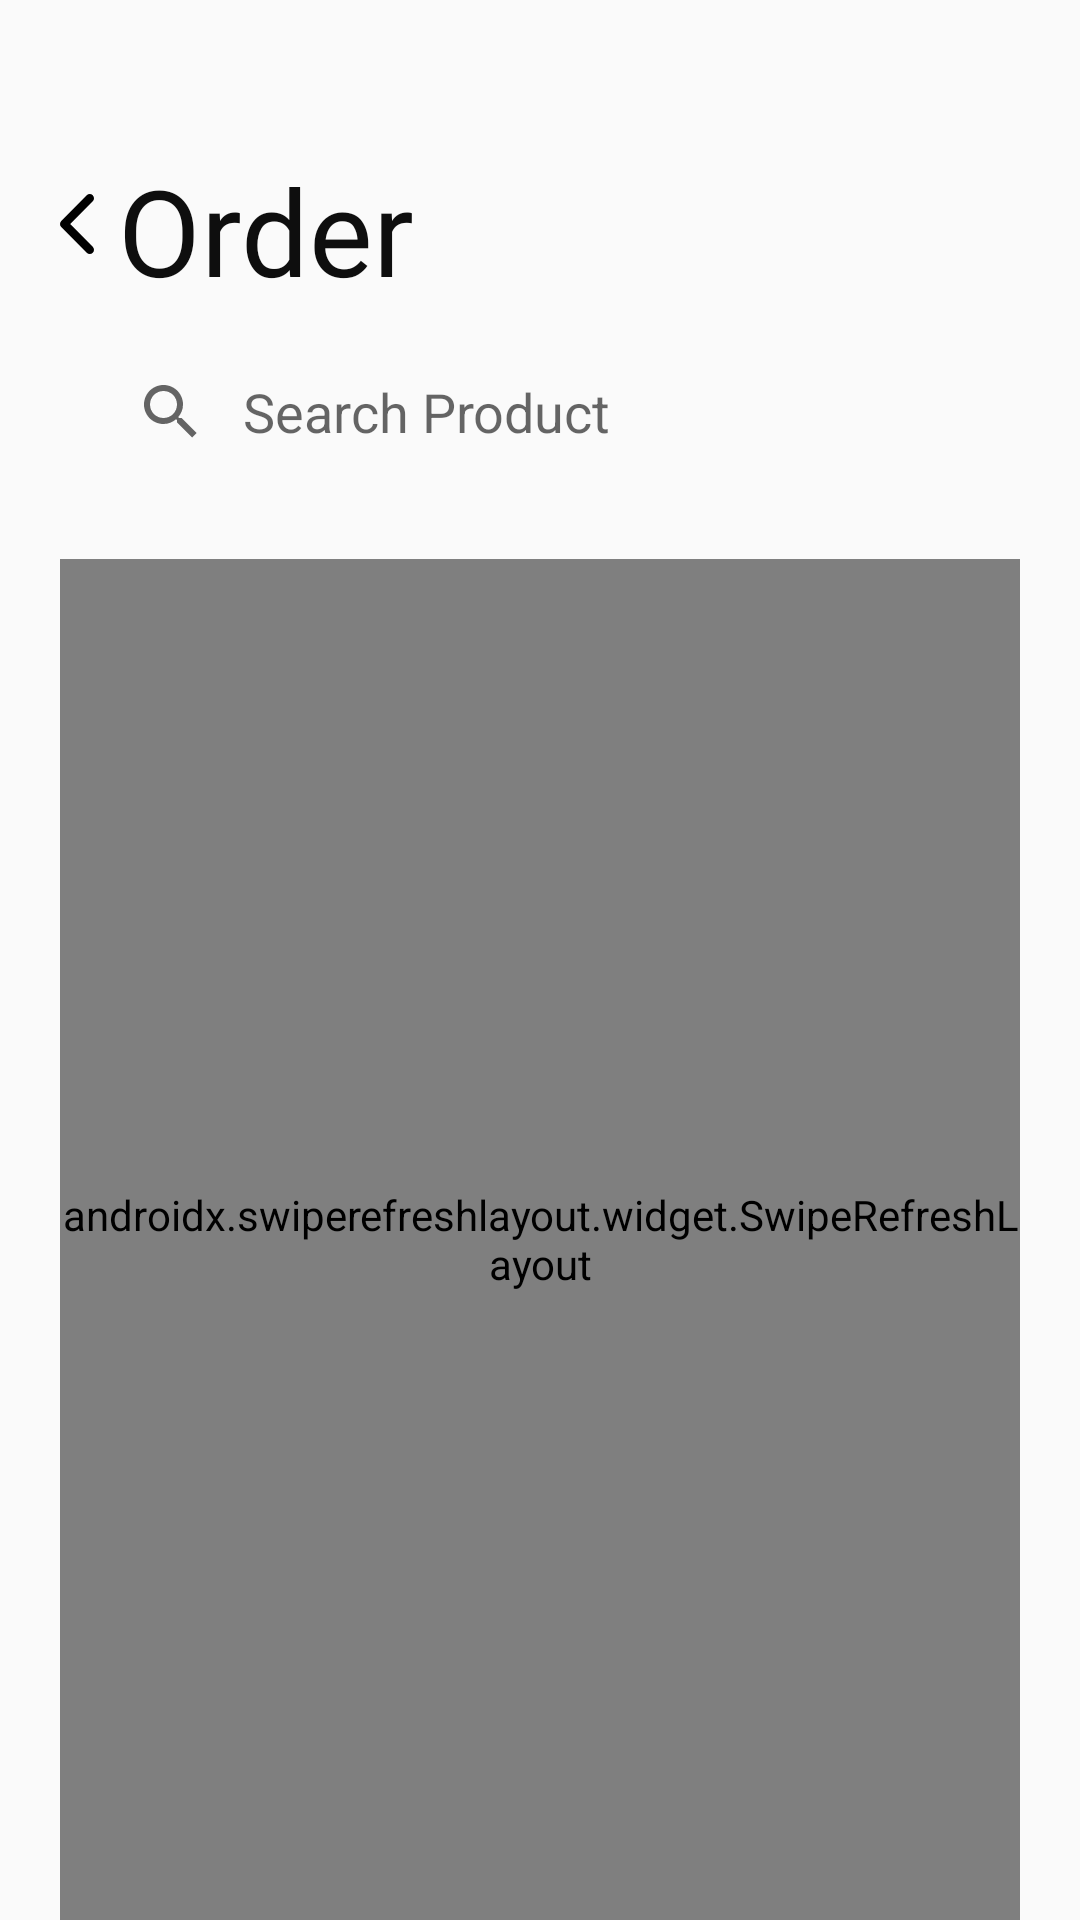

Named icons in this screenshot (1080 x 1920) and their centers, [x,y]:
leftarrow figma: [77,224]
